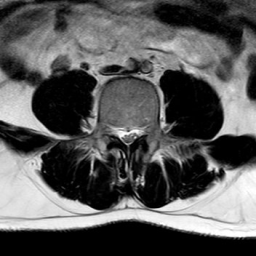CCS_normal: (124, 117, 132, 160)
LFS_normal: (139, 115, 149, 144)
LLS_normal: (132, 115, 140, 147)
RFS_normal: (108, 116, 116, 141)
RLS_normal: (116, 116, 124, 148)
